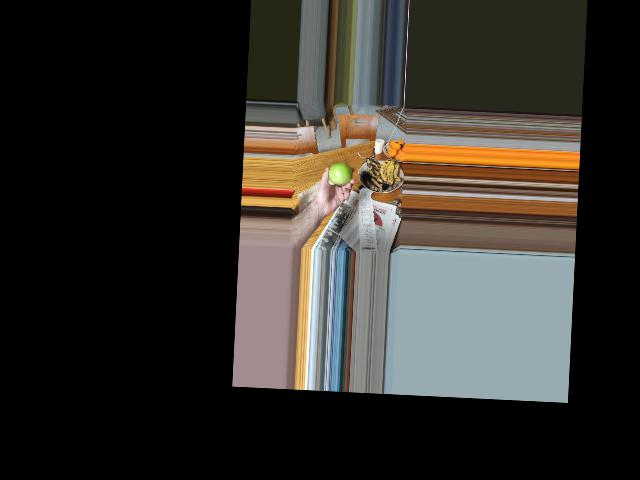apple: (328, 157, 352, 186)
